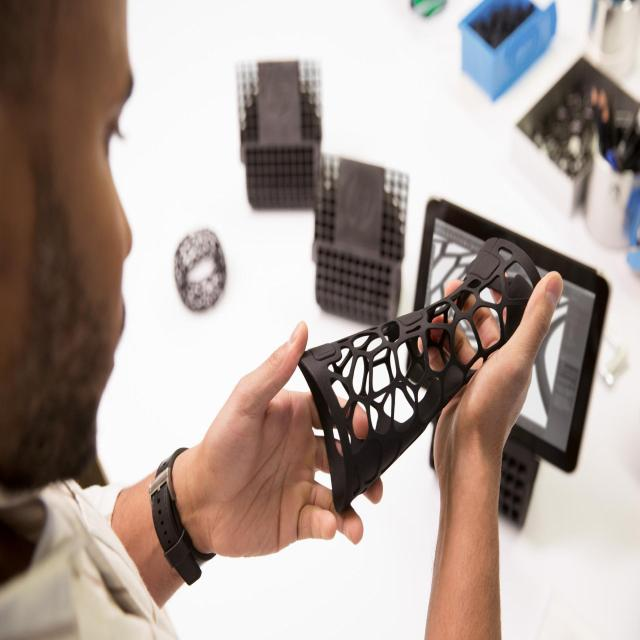Without deffect: (272, 194, 552, 502)
